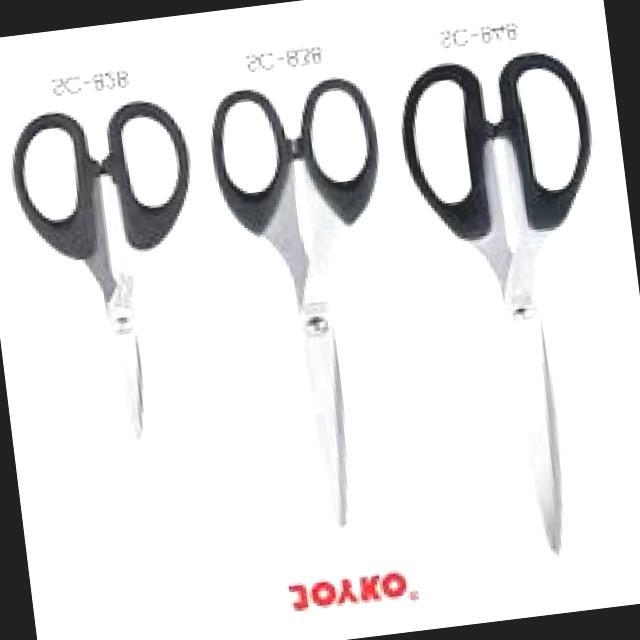Scissors: (378, 31, 640, 579), (192, 61, 436, 559), (0, 89, 232, 472)
